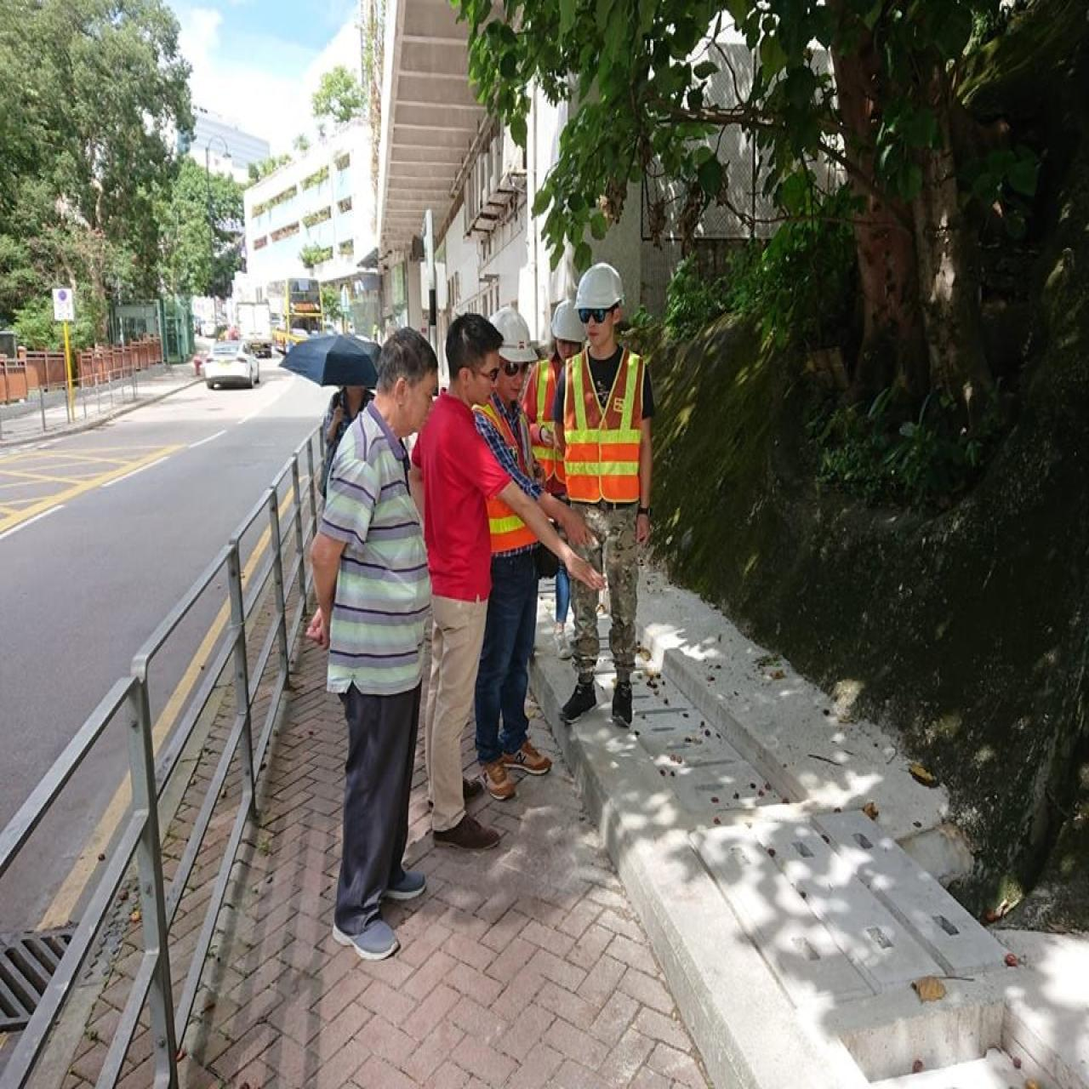NO_Safety_Vest: (326, 426, 415, 687), (427, 397, 507, 602)
Person: (406, 314, 530, 859), (324, 324, 427, 977), (567, 259, 651, 719), (499, 296, 561, 766), (524, 298, 585, 492)
Safety_Vest: (565, 352, 643, 507), (482, 402, 543, 563), (534, 359, 569, 481)
